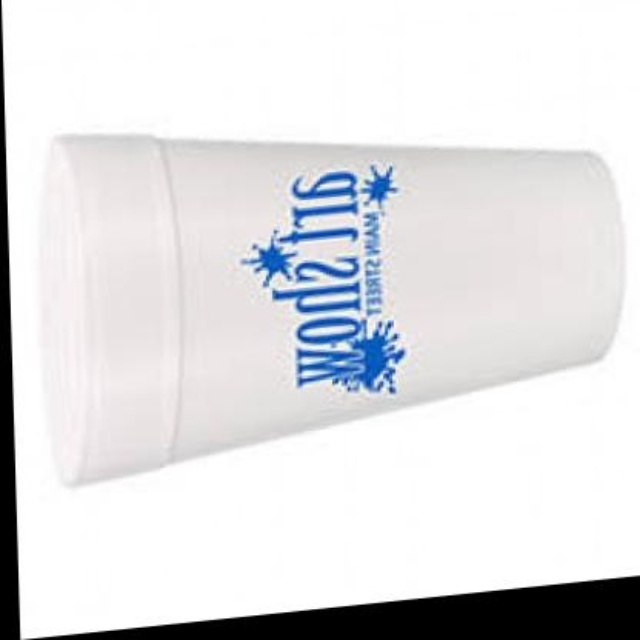trash: (48, 135, 620, 482)
